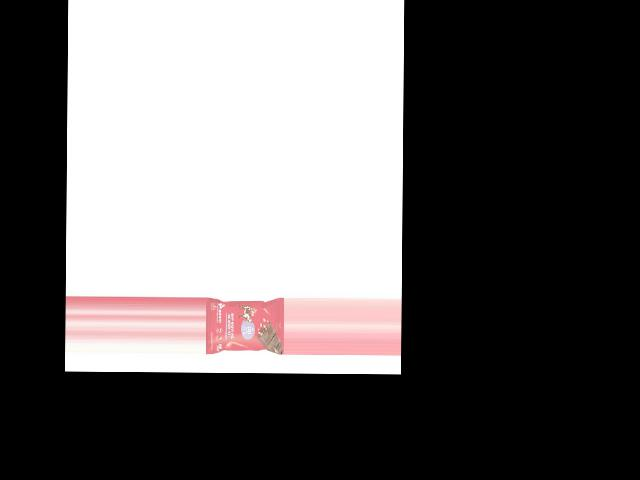chocolate: (205, 299, 283, 355)
